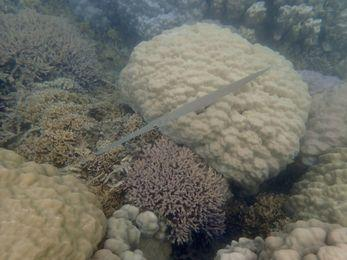Fistularia commersonii: (57, 27, 298, 148)
